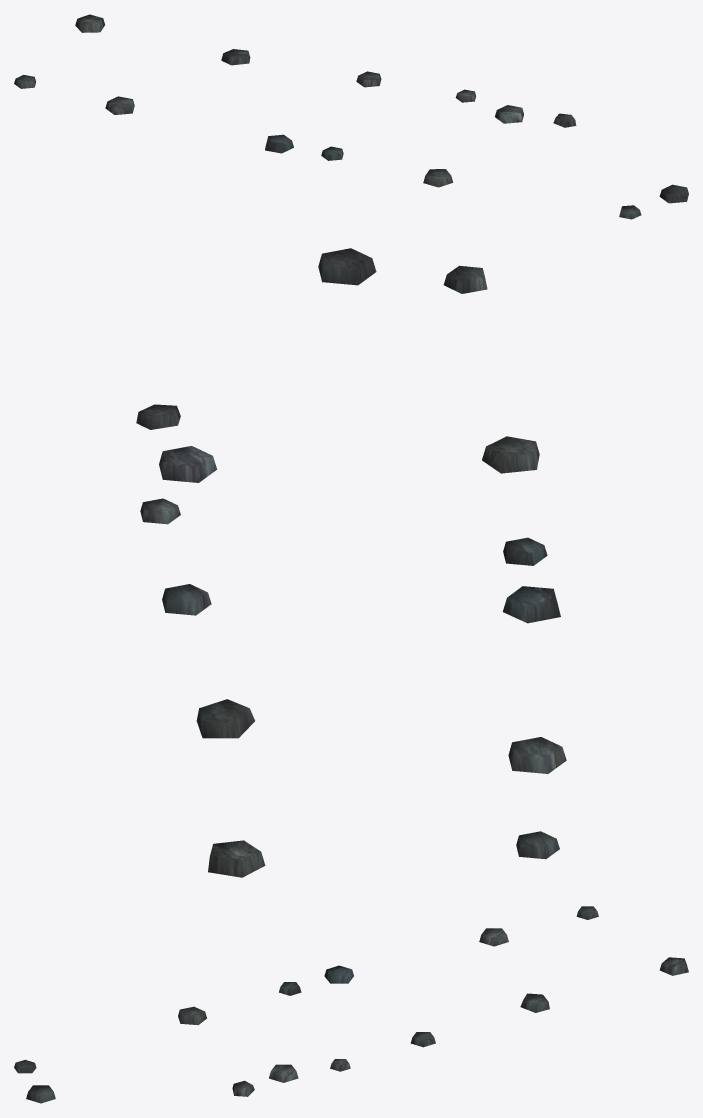
The model's file is object_graveyard_footpath.fbx.
3 views of the same model, one above another, from view 1: azimuth 30°, elevation 25°; view 2: azimuth 150°, elevation 25°; view 3: azimuth 270°, elevation 25° (orthographic). The views are drawn at different scales.
Parts seen in each view (by area): view 1: New_terrain/cliffside; view 2: New_terrain/cliffside; view 3: New_terrain/cliffside.
Part boxes in pixels (x1=…): New_terrain/cliffside: x1=14, y1=14, x2=688, y2=219; New_terrain/cliffside: x1=136, y1=248, x2=566, y2=877; New_terrain/cliffside: x1=14, y1=906, x2=688, y2=1103.
Bounding box in the file's own units: 8.49 × 0.203 × 12.7.
